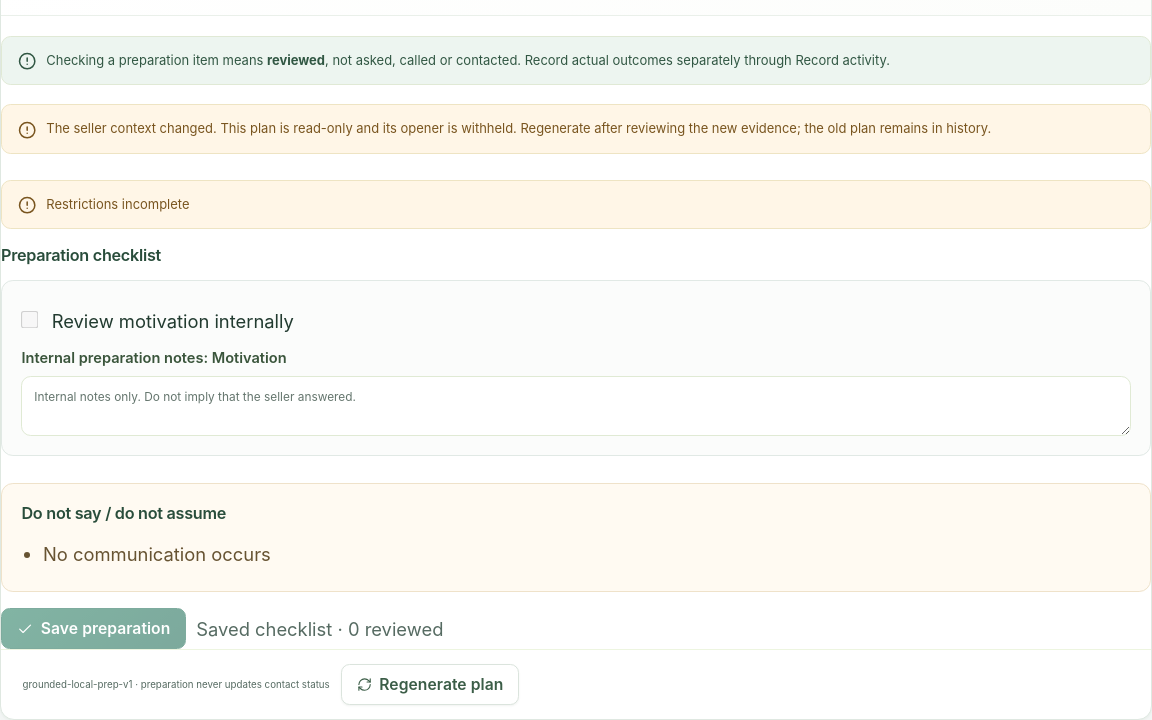
Test: requires an explicit creation click and an explicit stale-plan regeneration
The image size is (1152, 720).
(page scrolled)
Expected: the text "The seller context changed" is shown, [46,120,991,136]
Expected: the button "Save preparation" is disabled, [1,608,186,649]
Click the button "Regenerate plan" at {"x": 430, "y": 685}, box [340,664,519,705]
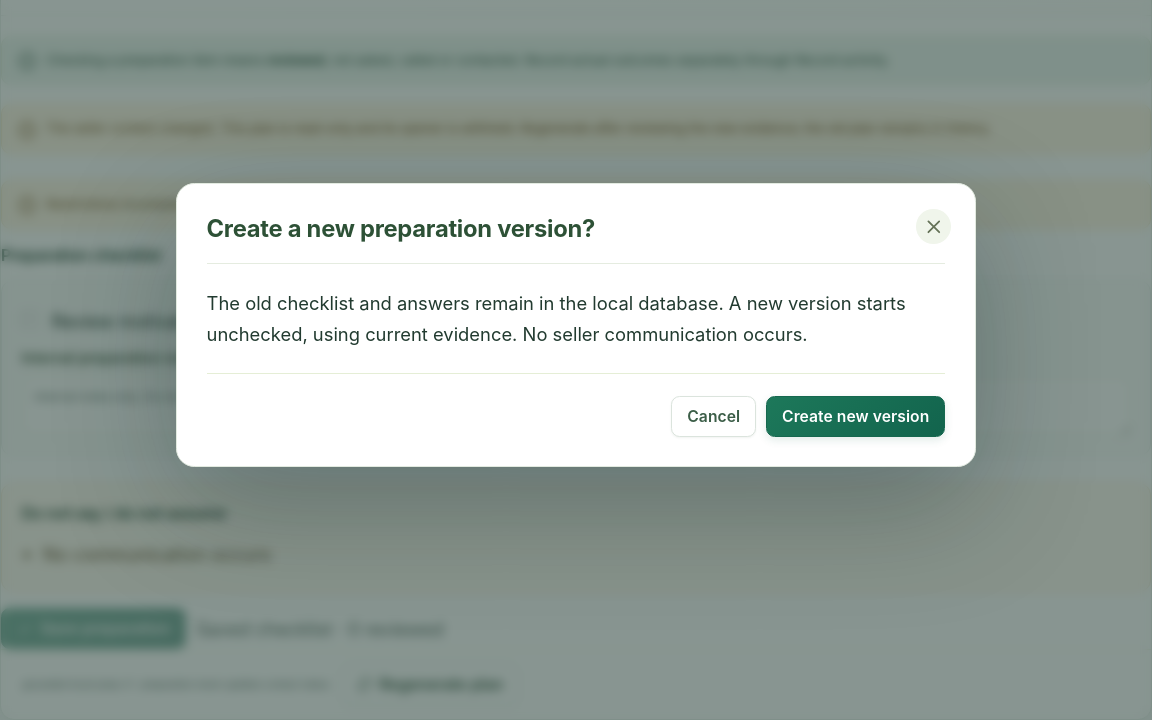
Now the dialog "Create a new preparation version?" is shown, box [176,183,976,467]
